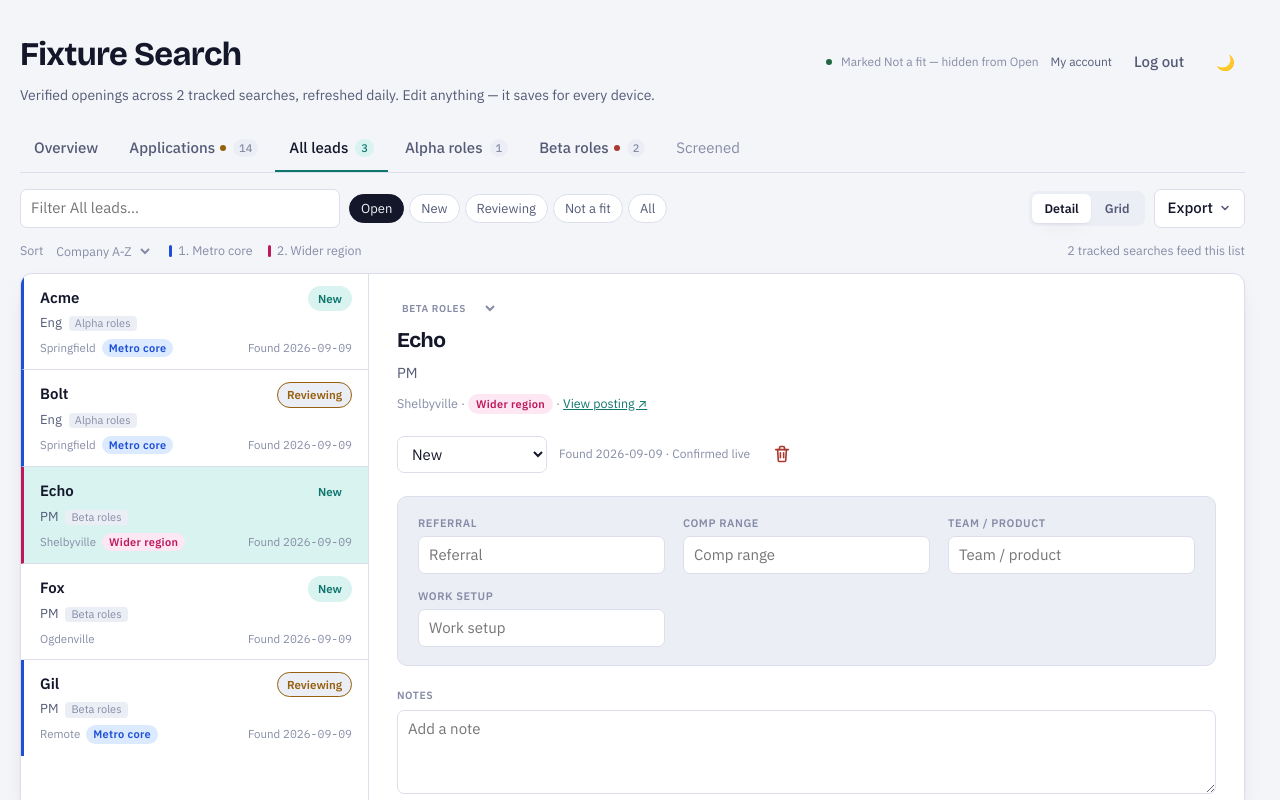
Test: marking a lead so it leaves the chip on screen › puts the row and the selection back when the save fails
Select "Not a fit" in the dropdown named "Status" at coordinates (472, 454), box [397,436,547,473]
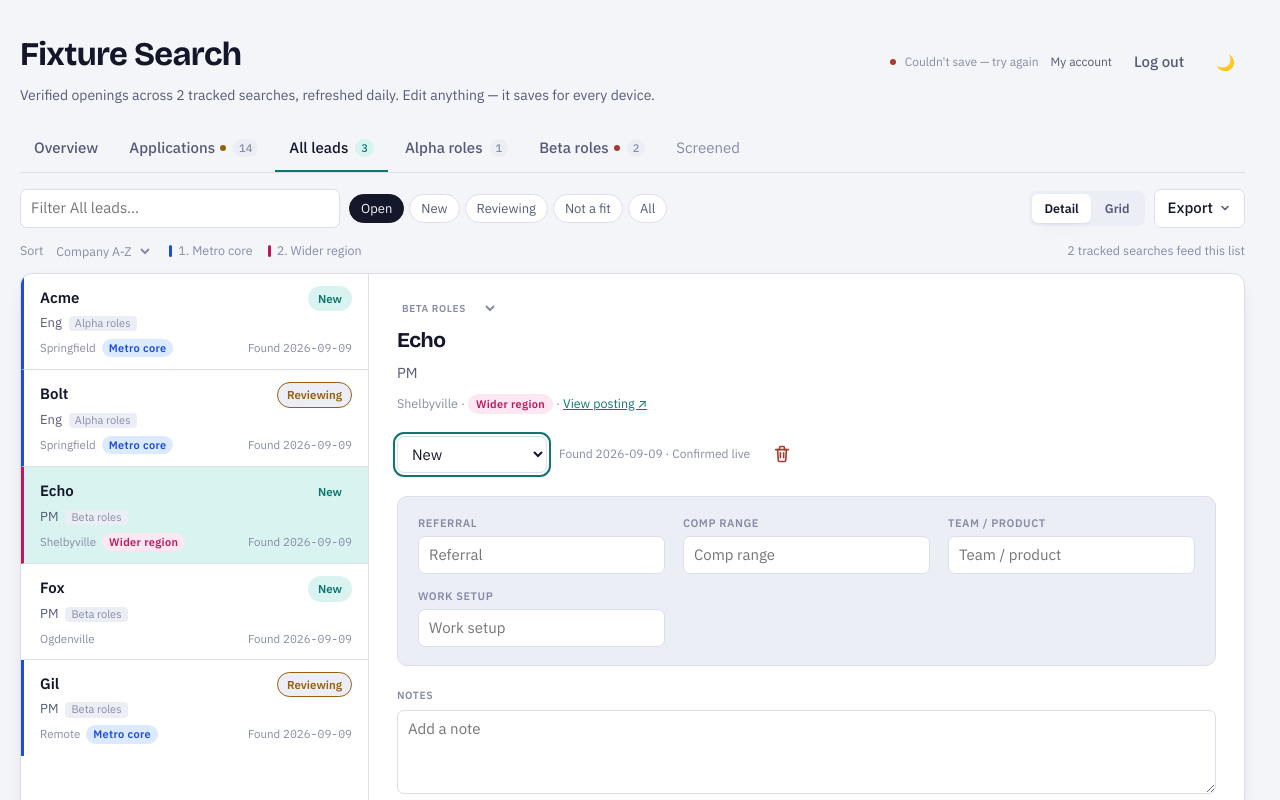
Check: the text "Echo" is shown, box [40,481,74,500]
Check: the message reads "Couldn't save — try again", box [905,54,1039,69]
